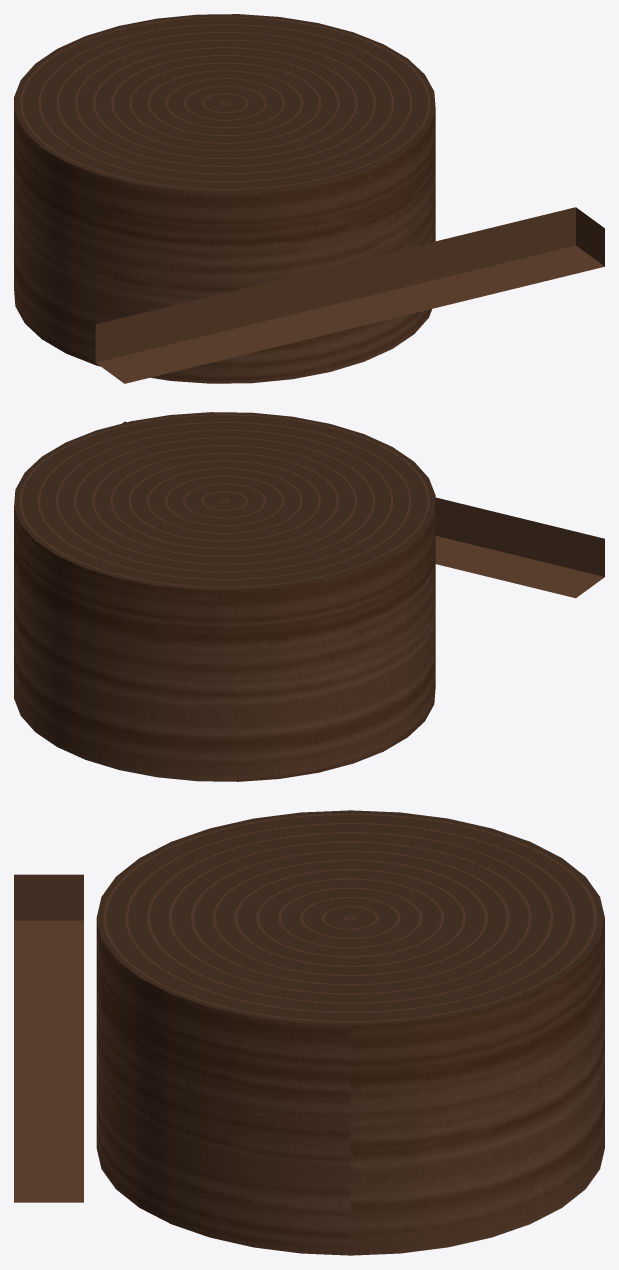
File: stand.glb
The picture shows the model from 3 angles, top to bottom: view 1: azimuth 30°, elevation 25°; view 2: azimuth 150°, elevation 25°; view 3: azimuth 270°, elevation 25°; orthographic projection. The views are drawn at different scales.
Parts seen in each view (by area): view 1: stand; view 2: stand; view 3: stand.
Part boxes in pixels (left/top/right/bottom): stand: left=14, top=14, right=604, bottom=383; stand: left=14, top=412, right=604, bottom=781; stand: left=14, top=810, right=604, bottom=1255.
Bounding box in the file's own units: 0.21 × 0.08 × 0.186.
2 materials, 2 textured.
